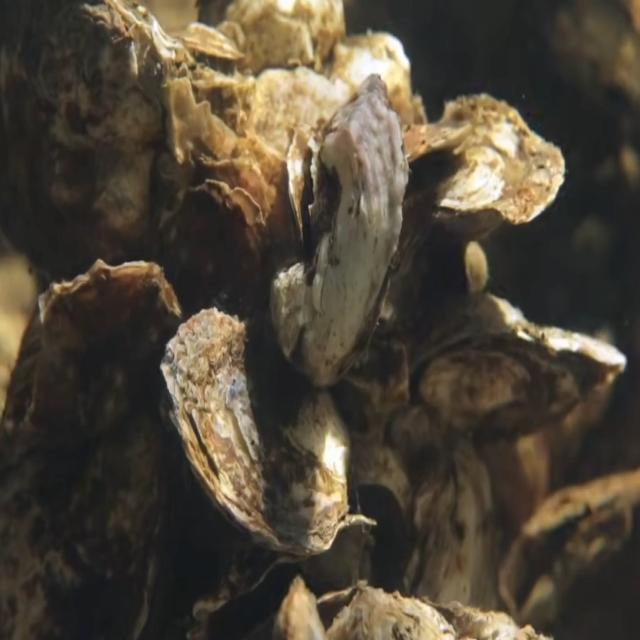Oyster-Closed: (0, 258, 184, 640), (158, 306, 352, 559), (268, 72, 410, 388), (407, 289, 640, 447), (389, 92, 566, 281), (401, 435, 498, 640)
Oyster-Indeterminate: (0, 0, 215, 292), (151, 178, 271, 330)
Oyster-Open: (497, 470, 640, 640), (193, 513, 378, 640)
